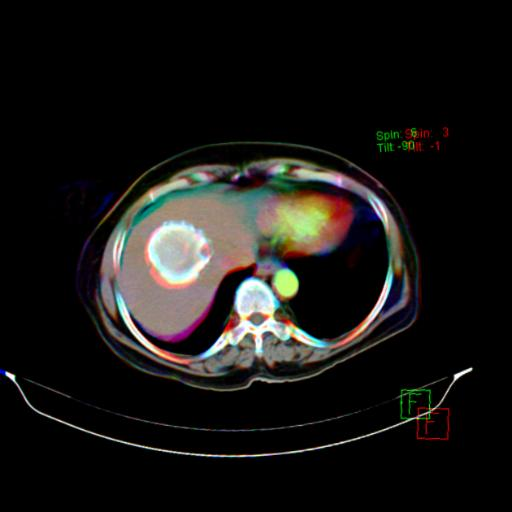Cyst: (145, 221, 209, 288)
